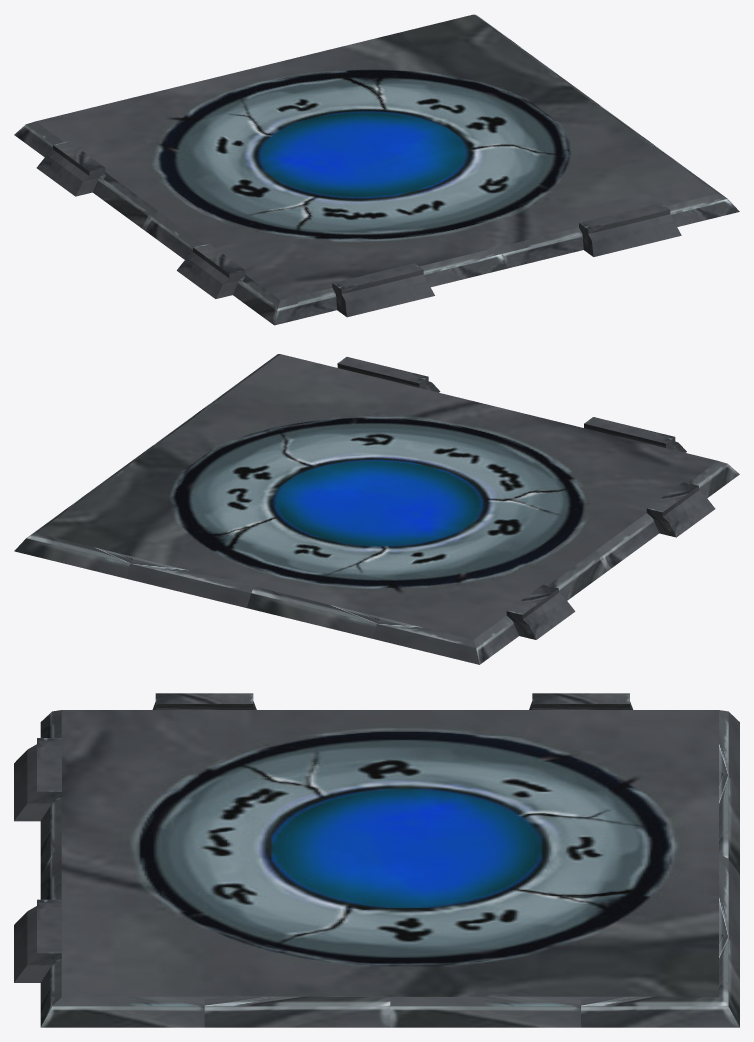
Rendered from New_PlatformGeneral.FBX.
3 views of the same model, one above another, from view 1: azimuth 30°, elevation 25°; view 2: azimuth 150°, elevation 25°; view 3: azimuth 270°, elevation 25° (orthographic). The views are drawn at different scales.
Parts seen in each view (by area): view 1: SnowPlatform003; view 2: SnowPlatform003; view 3: SnowPlatform003.
Part boxes in pixels (x1=…): SnowPlatform003: x1=14, y1=14, x2=739, y2=325; SnowPlatform003: x1=14, y1=354, x2=739, y2=664; SnowPlatform003: x1=14, y1=693, x2=739, y2=1027.
Bounding box in the file's own units: 460 × 446 × 18.66.
